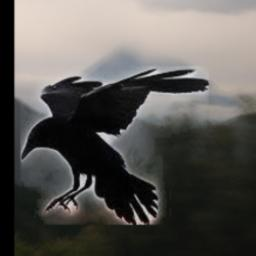Sparrow: (20, 66, 209, 225)
